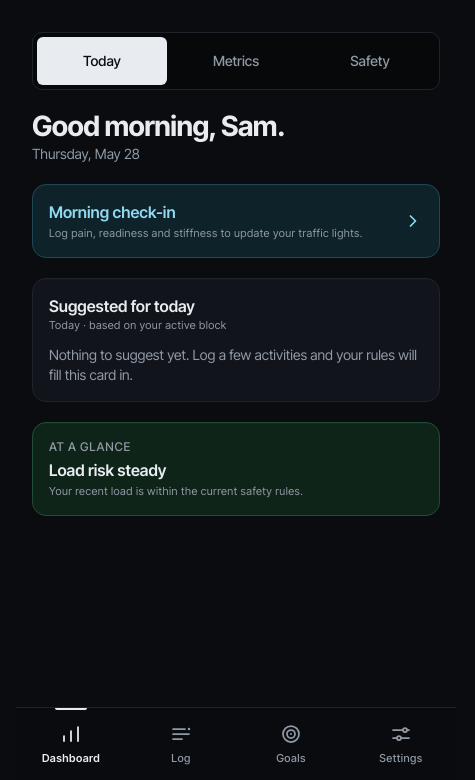
Test case: BlockReviewScreen route wiring › shows a loading state while the previous-block review is pending
Click the button "Settings" at (401, 744), box [346,708,456,779]
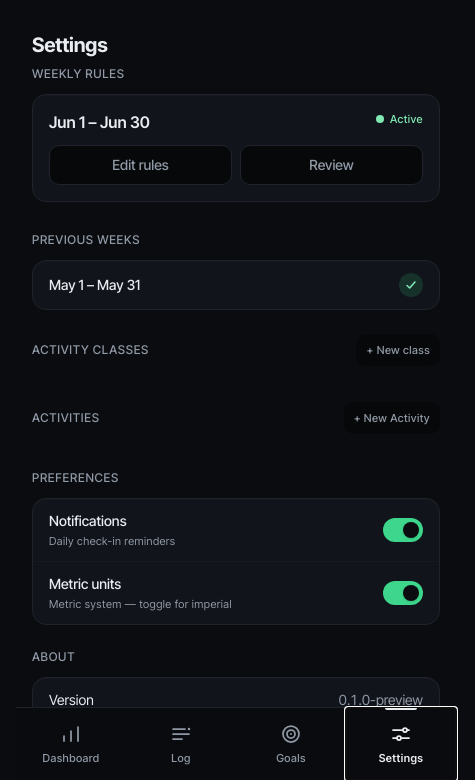
Click the button "May 1 – May 31" at (95, 284), box [33,261,439,309]
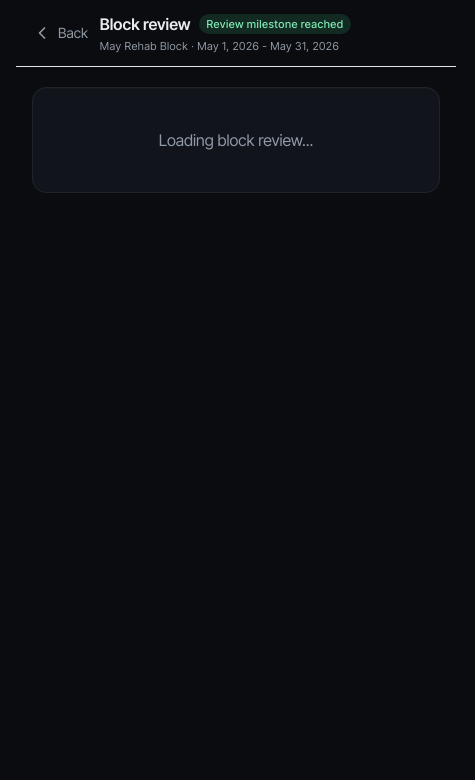
Result: the message shows "Loading" at [159,130,313,150]
